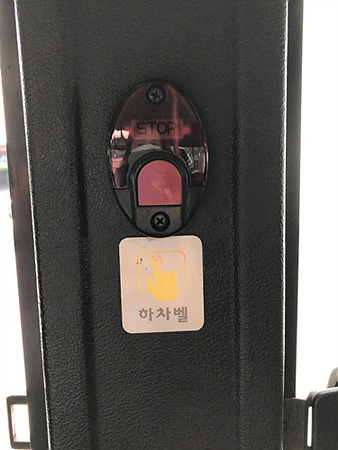bell: (107, 79, 212, 239)
